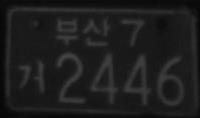2: (56, 51, 85, 102)
4: (123, 53, 153, 107), (89, 52, 119, 104)
6: (157, 54, 185, 105)
7: (121, 18, 145, 46)
거: (16, 59, 44, 93)
부산_O: (57, 17, 110, 47)
